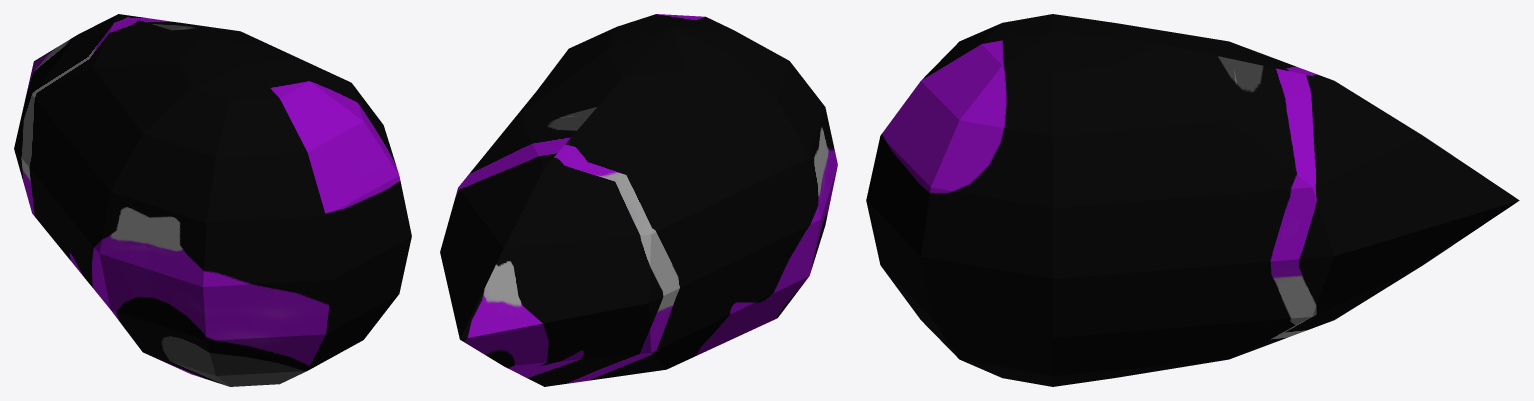
File: mod_enemybullet.obj
3 renders of one model, left to right at view 1: azimuth 30°, elevation 25°; view 2: azimuth 150°, elevation 25°; view 3: azimuth 270°, elevation 25°, orthographic. The views are drawn at different scales.
Parts seen in each view (by area): view 1: pSphere1; view 2: pSphere1; view 3: pSphere1.
Part boxes in pixels (x1,y1,x2,y2): pSphere1: (14,14,411,386); pSphere1: (440,14,837,386); pSphere1: (866,14,1519,386).
Size of the model in its own units: 0.2566 by 0.2566 by 0.4491.
